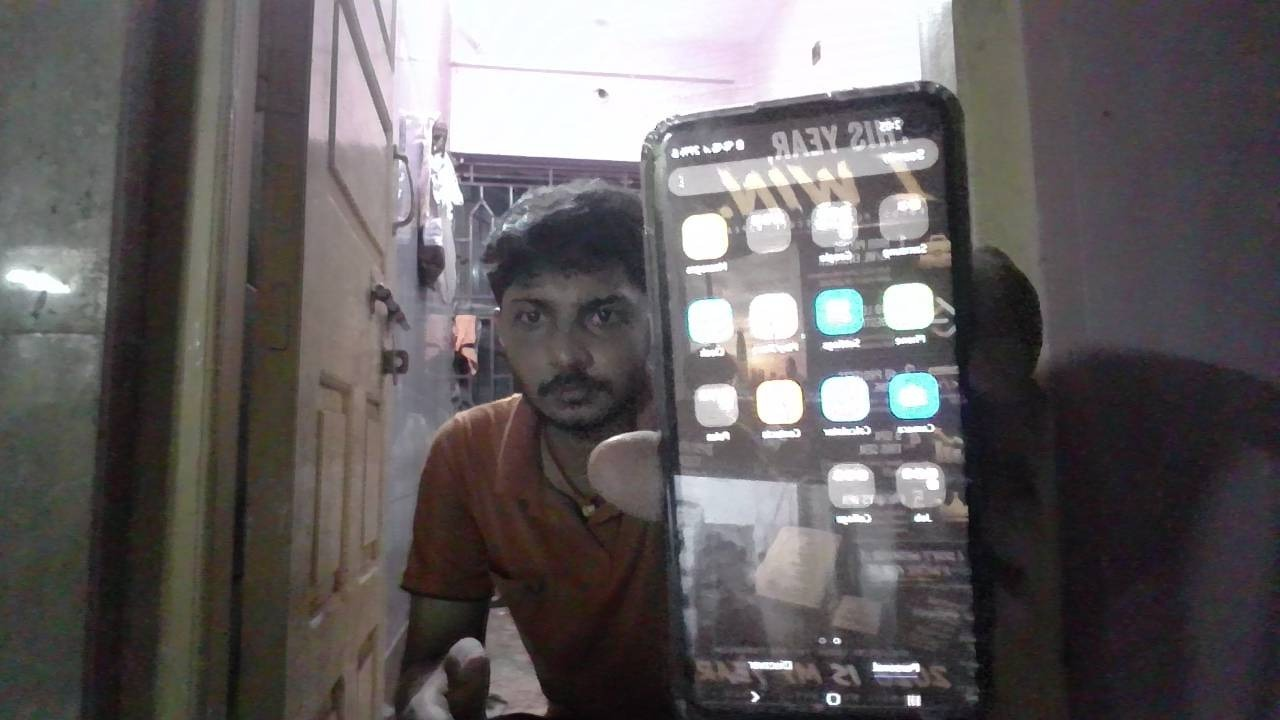red_box: (419, 416, 549, 564)
